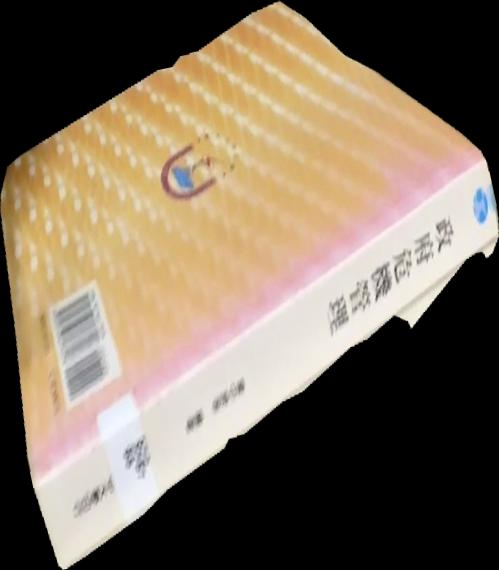flat: (1, 1, 499, 570)
